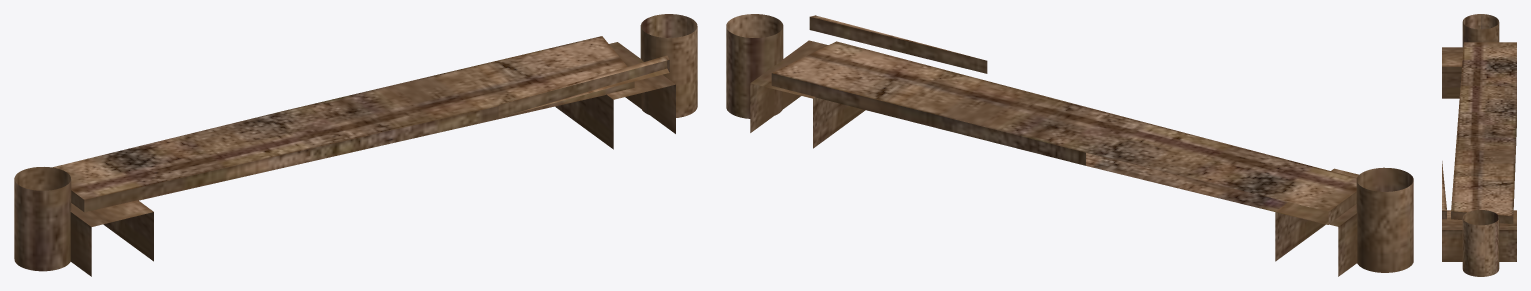
File: wharf-step.glb
The picture shows the model from 3 angles, left to right: view 1: azimuth 30°, elevation 25°; view 2: azimuth 150°, elevation 25°; view 3: azimuth 270°, elevation 25°; orthographic projection. The views are drawn at different scales.
Parts seen in each view (by area): view 1: wharf-step; view 2: wharf-step; view 3: wharf-step.
Boxes of the visible parts, x1,y1,x2,y2 form: wharf-step: [14, 14, 697, 276]; wharf-step: [726, 14, 1413, 276]; wharf-step: [1442, 14, 1516, 276].
Bounding box in the file's own units: 2 × 0.2277 × 0.2993.
Materials: 1 (1 with a texture image).
